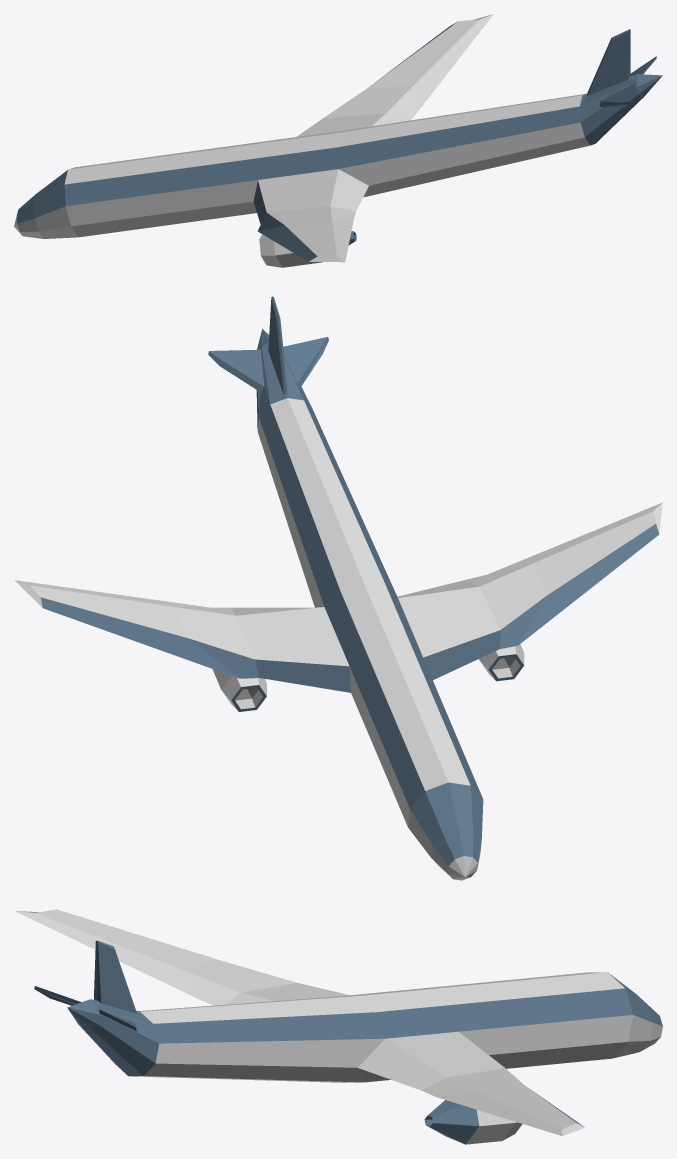
3 views of the same model, one above another, from view 1: azimuth 30°, elevation 25°; view 2: azimuth 150°, elevation 25°; view 3: azimuth 270°, elevation 25° (orthographic). The views are drawn at different scales.
Parts seen in each view (by area): view 1: plane; view 2: plane; view 3: plane.
Part boxes in pixels (bbox=[...]): plane: bbox=[14, 14, 662, 267]; plane: bbox=[14, 296, 662, 880]; plane: bbox=[15, 909, 662, 1144].
Bounding box in the file's own units: 264 × 153 × 263.
